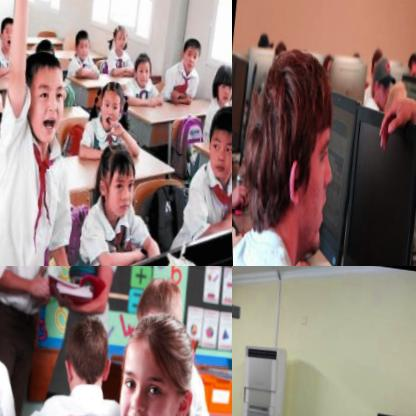head: (232, 46, 352, 257), (110, 308, 199, 416), (16, 52, 72, 146), (87, 136, 143, 224), (59, 315, 116, 392), (132, 266, 188, 336), (199, 102, 232, 185), (89, 76, 130, 135), (206, 59, 232, 105), (368, 57, 391, 109), (176, 31, 203, 73), (128, 48, 154, 87), (32, 34, 57, 69), (70, 26, 91, 59), (107, 19, 129, 50), (0, 13, 17, 49)
